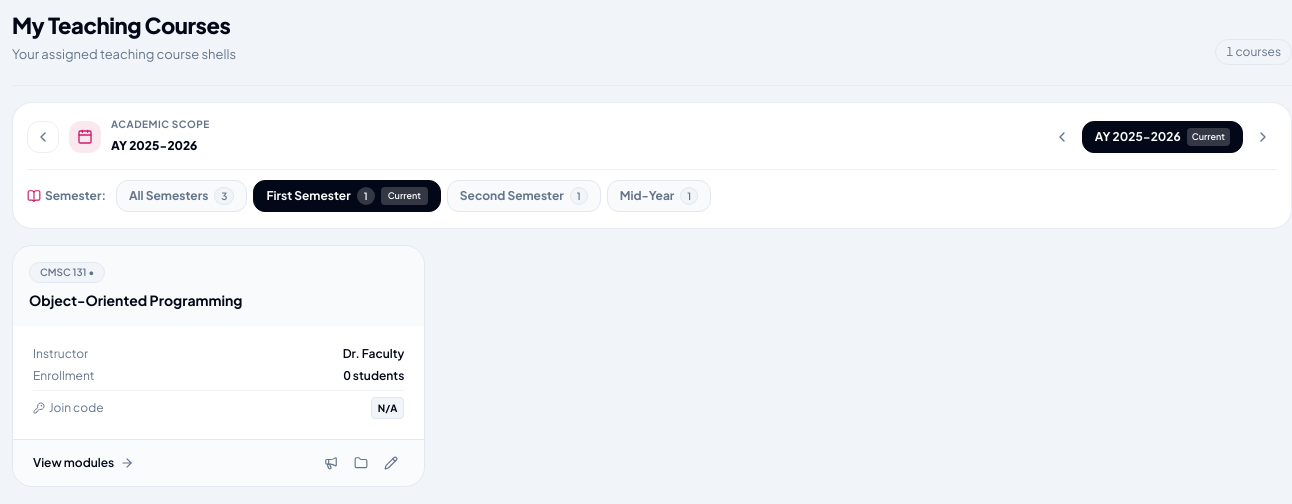
Test: DashboardPage semester filter › renders semester filter tabs with correct labels and live course counts
Check: the element with test id "semester-filter-container" is shown, box [27,169,1277,214]
Check: the button with test id "semester-tab-First" shows "First Semester", box [254,180,441,212]
Note: Clicking All Semesters shows all 3 courses
Click the button with test id "semester-tab-all" at x=182, y=196, box [116,180,248,212]
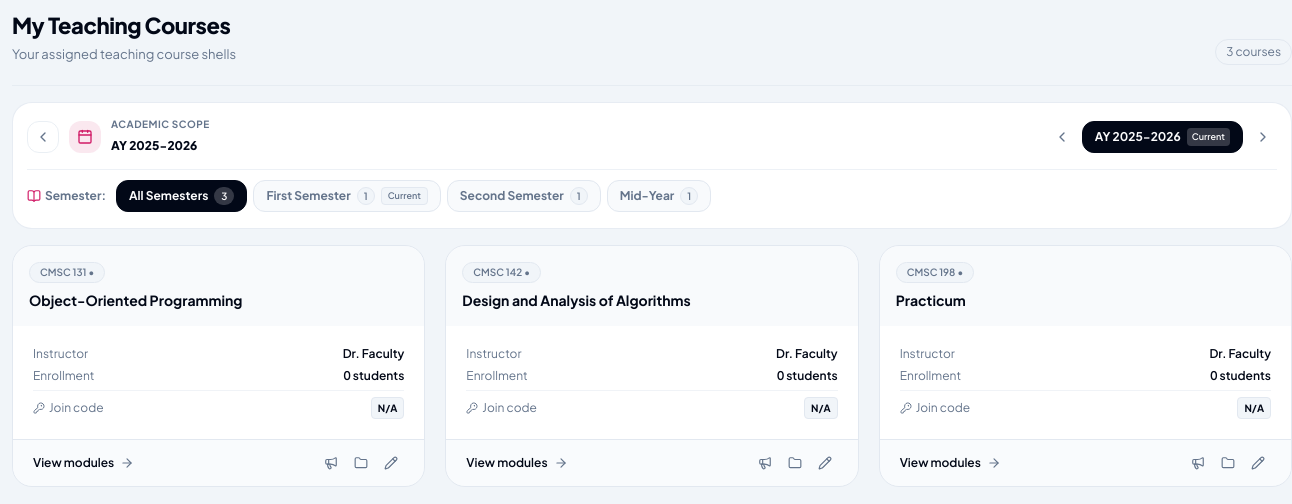
Check: the heading "Object-Oriented Programming" is shown, box [29,291,242,309]
Check: the heading "Design and Analysis of Algorithms" is shown, box [462,291,691,309]
Check: the heading "Practicum" is shown, box [896,291,966,309]
